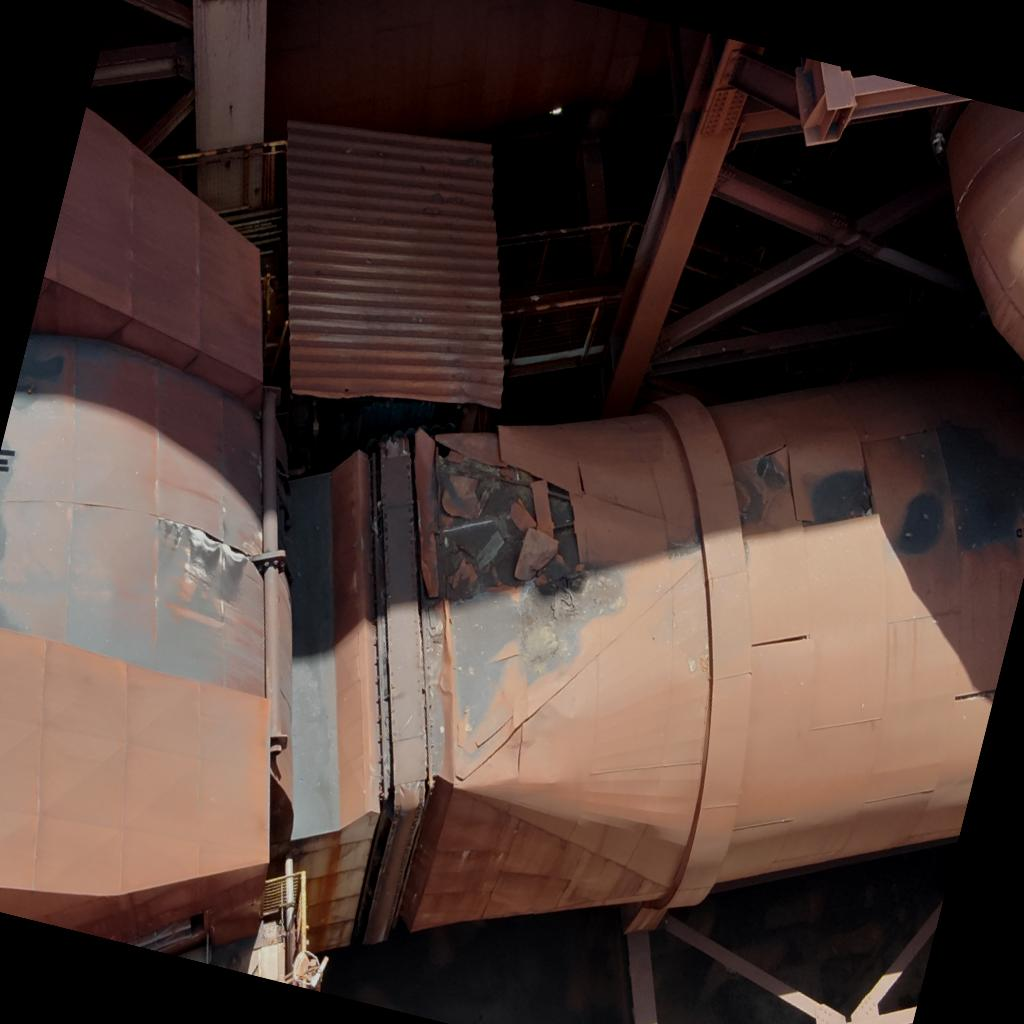Failures: (332, 398, 634, 783), (123, 479, 275, 640)
